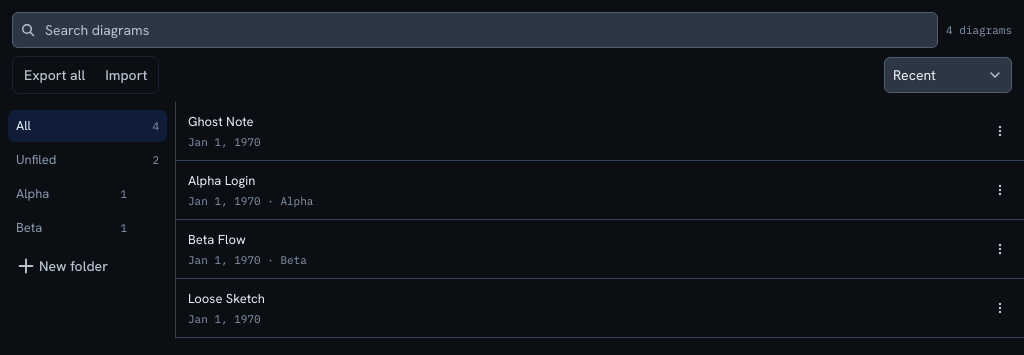
Test case: LibraryPanel › Unfiled includes items with no folder AND items whose folderId is not in folders (CQ-3)
This screenshot has width=1024, height=355.
Click the button with test id "folder-unfiled": (88, 160) [8, 144, 167, 176]
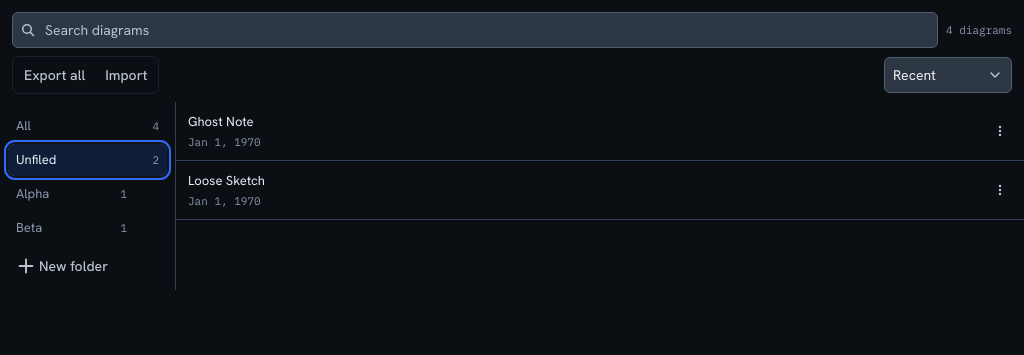
Expected: the button with test id "lib-row-i-unfiled" is shown, [176, 161, 1023, 220]
Result: the button with test id "lib-row-i-alpha" is gone
Result: the button with test id "lib-row-i-beta" is gone
